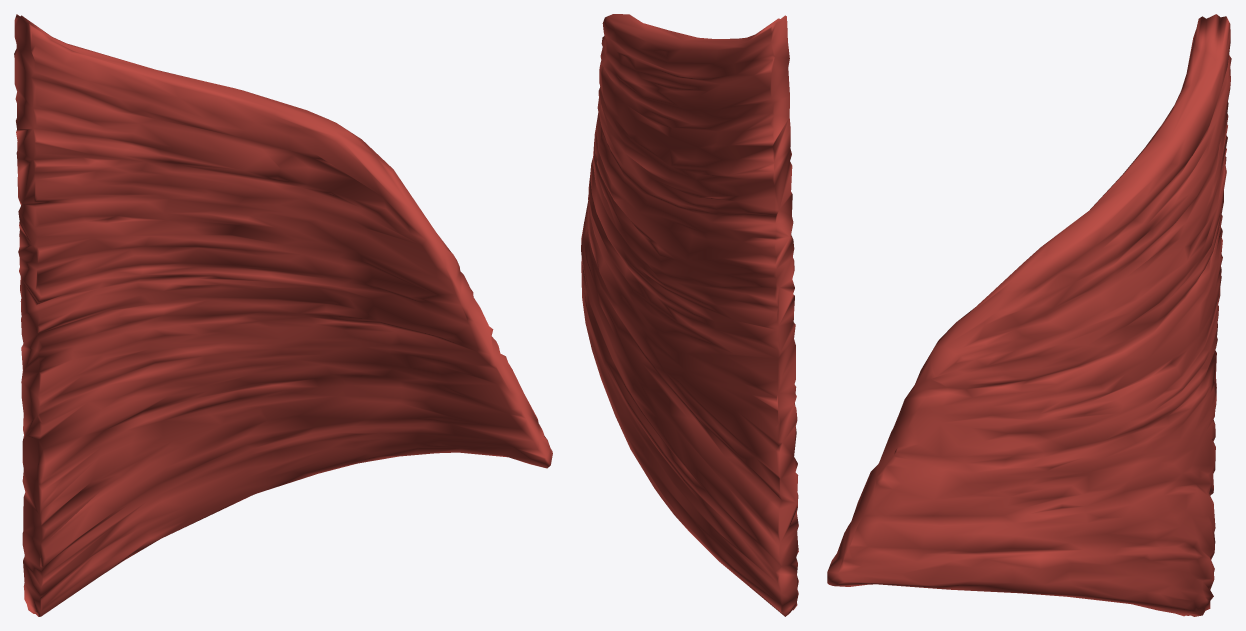
The model's file is musculos-superior-pharyngeal-constrictor-l.glb.
The picture shows the model from 3 angles, left to right: view 1: azimuth 30°, elevation 25°; view 2: azimuth 150°, elevation 25°; view 3: azimuth 270°, elevation 25°; orthographic projection. The views are drawn at different scales.
Visible parts, largest first — view 1: Superior pharyngeal constrictor.l; view 2: Superior pharyngeal constrictor.l; view 3: Superior pharyngeal constrictor.l.
Part boxes in pixels (bbox=[...]): Superior pharyngeal constrictor.l: bbox=[14, 14, 552, 616]; Superior pharyngeal constrictor.l: bbox=[581, 14, 798, 616]; Superior pharyngeal constrictor.l: bbox=[827, 14, 1231, 616].
Size of the model in its own units: 0.033 by 0.0536 by 0.0326.
